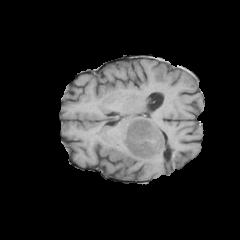glioma: (102, 117, 175, 173)
